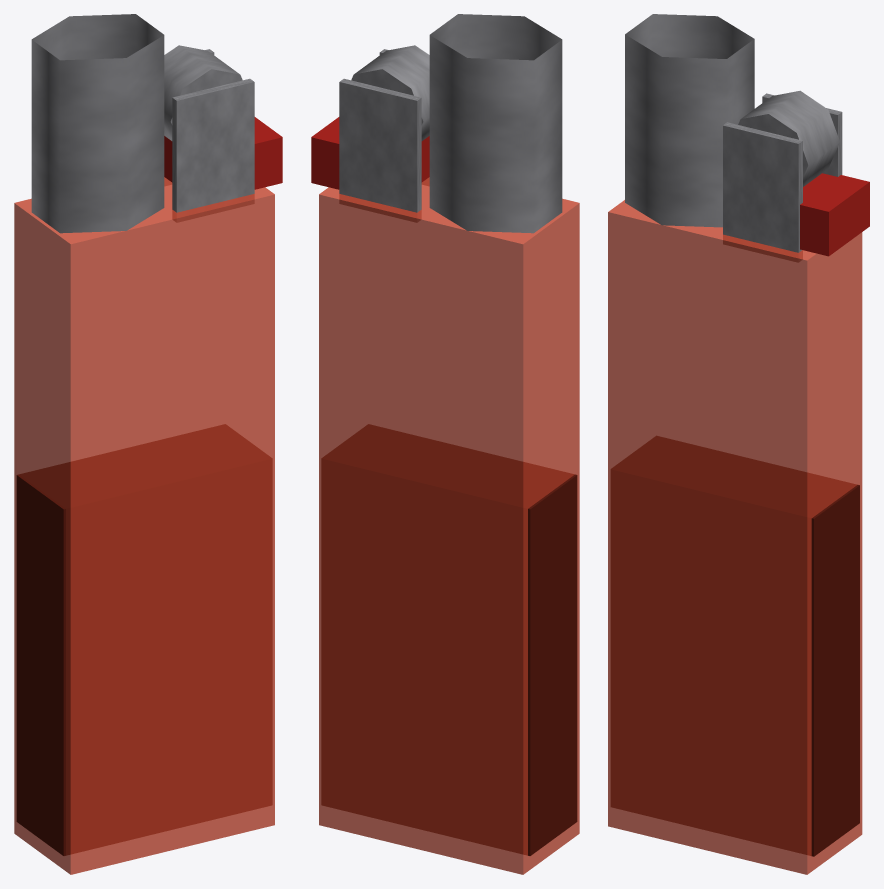
Rendered from lighter_L0.glb.
The picture shows the model from 3 angles, left to right: view 1: azimuth 30°, elevation 25°; view 2: azimuth 150°, elevation 25°; view 3: azimuth 330°, elevation 25°; orthographic projection. The views are drawn at different scales.
Visible parts, largest first — view 1: body, butane, hood, fork, wheel, lever; view 2: body, butane, hood, fork, wheel, lever; view 3: body, butane, hood, fork (×2), lever, wheel.
Boxes of the visible parts, x1=… form: body: x1=14, y1=177, x2=274, y2=874; butane: x1=16, y1=424, x2=271, y2=855; hood: x1=31, y1=14, x2=164, y2=233; fork: x1=172, y1=78, x2=254, y2=221; wheel: x1=164, y1=45, x2=242, y2=140; lever: x1=164, y1=117, x2=282, y2=189; body: x1=319, y1=177, x2=579, y2=874; butane: x1=322, y1=424, x2=577, y2=855; hood: x1=429, y1=14, x2=562, y2=233; fork: x1=339, y1=78, x2=421, y2=221; wheel: x1=351, y1=45, x2=429, y2=140; lever: x1=311, y1=117, x2=429, y2=189; body: x1=608, y1=200, x2=862, y2=874; butane: x1=611, y1=436, x2=859, y2=856; hood: x1=625, y1=14, x2=754, y2=227; fork (×2): x1=723, y1=93, x2=842, y2=261; lever: x1=800, y1=173, x2=869, y2=256; wheel: x1=738, y1=90, x2=839, y2=186.
Size of the model in its own units: 0.0228 by 0.079 by 0.0102.
Materials: 4 (1 with a texture image).
